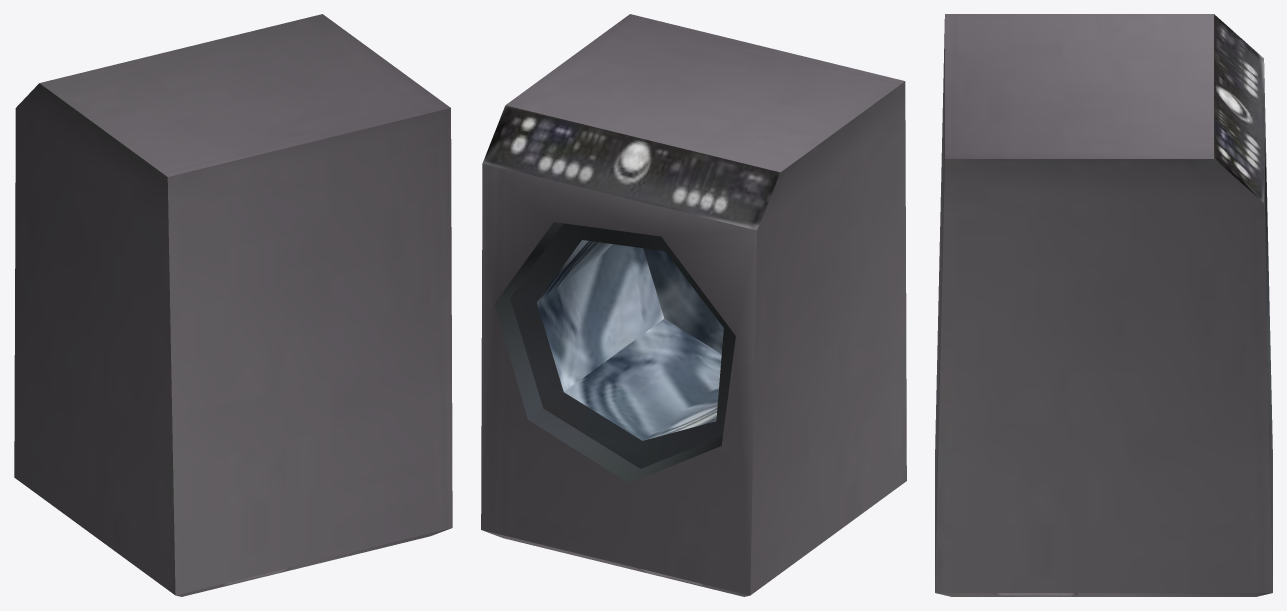
Rendered from Washing_machine.glb.
The picture shows the model from 3 angles, left to right: view 1: azimuth 30°, elevation 25°; view 2: azimuth 150°, elevation 25°; view 3: azimuth 270°, elevation 25°; orthographic projection. The views are drawn at different scales.
Parts seen in each view (by area): view 1: Washing_machine; view 2: Washing_machine; view 3: Washing_machine.
Boxes of the visible parts, x1,y1,x2,y2 form: Washing_machine: (14,14,452,596); Washing_machine: (481,14,906,596); Washing_machine: (935,14,1272,596).
Size of the model in its own units: 0.8146 by 1.17 by 0.8025.
Materials: 1 (1 with a texture image).
